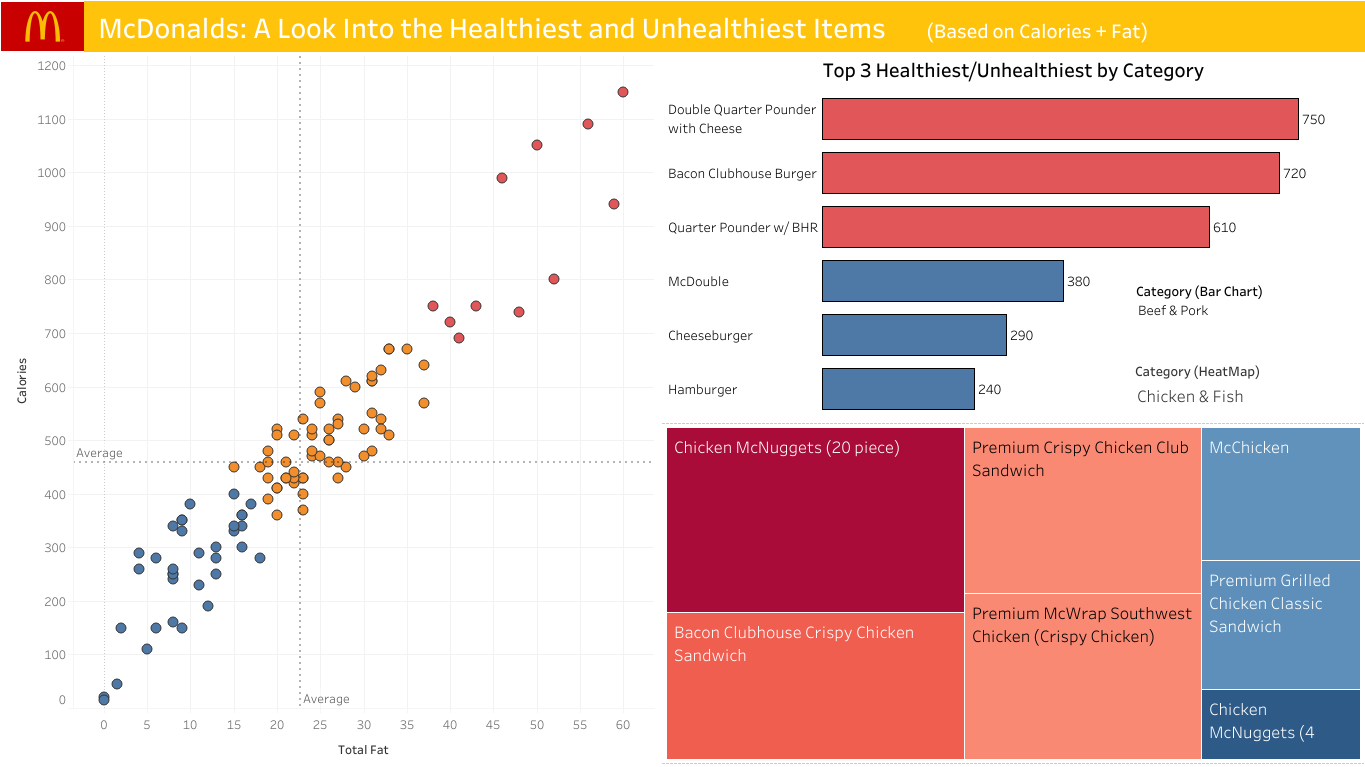

This screenshot's page, from the dashboard's own definition file:
{"tool":"tableau","page":{"name":"McDonalds Menu Ranked by Calories","canvas":[1366,768],"ordinal":1},"visuals":[{"type":"worksheet","box":[0,0,1366,768]},{"type":"worksheet","param":"vert","box":[1,1,1368,768]},{"type":"worksheet","param":"horz","box":[1,1,1368,51]},{"type":"worksheet","param":"Image/mcdonalds red.jpg","box":[1,1,83,51]},{"type":"worksheet","box":[84,1,1285,51]},{"type":"worksheet","param":"horz","box":[8,8,1350,752]},{"type":"worksheet","param":"horz","box":[8,8,1350,752]},{"type":"worksheet","box":[8,8,1350,752]},{"type":"worksheet","param":"horz","box":[1,52,1368,717]},{"type":"worksheet","title":"Cluster","mark":"Circle","rows":["Calories"],"cols":["Total Fat"],"box":[1,52,657,717]},{"type":"worksheet","param":"vert","box":[658,52,711,717]},{"type":"worksheet","box":[658,52,711,34]},{"type":"worksheet","title":"Bar Chart","mark":"Automatic","rows":["Category","Item"],"cols":["Calories"],"box":[658,86,711,332]},{"type":"worksheet","title":"Bar Chart","mark":"Automatic","rows":["Category","Item"],"cols":["Calories"],"param":"[federated.08urjyr004ysmo155oq7h17i6bq4].[none:Category:nk]","box":[1136,280,198,60]},{"type":"worksheet","title":"Heatmap","mark":"Automatic","param":"[federated.08urjyr004ysmo155oq7h17i6bq4].[none:Category:nk]","box":[1135,360,168,48]},{"type":"worksheet","title":"Heatmap","mark":"Automatic","box":[658,418,711,351]}]}

Visuals, with their boxes in screenshot pixels (x1, y1, x2, y2), scaled from the page's 1366x768 canvas onto the 1365x767 screenshot:
worksheet: box=[0, 0, 1364, 766]
worksheet: box=[1, 1, 1364, 766]
worksheet: box=[1, 1, 1364, 52]
worksheet: box=[1, 1, 84, 52]
worksheet: box=[84, 1, 1364, 52]
worksheet: box=[8, 8, 1357, 759]
worksheet: box=[8, 8, 1357, 759]
worksheet: box=[8, 8, 1357, 759]
worksheet: box=[1, 52, 1364, 766]
"Cluster" worksheet (Circle marks): box=[1, 52, 658, 766]
worksheet: box=[658, 52, 1364, 766]
worksheet: box=[658, 52, 1364, 86]
"Bar Chart" worksheet: box=[658, 86, 1364, 417]
"Bar Chart" worksheet: box=[1135, 280, 1333, 340]
"Heatmap" worksheet: box=[1134, 360, 1302, 407]
"Heatmap" worksheet: box=[658, 417, 1364, 766]
